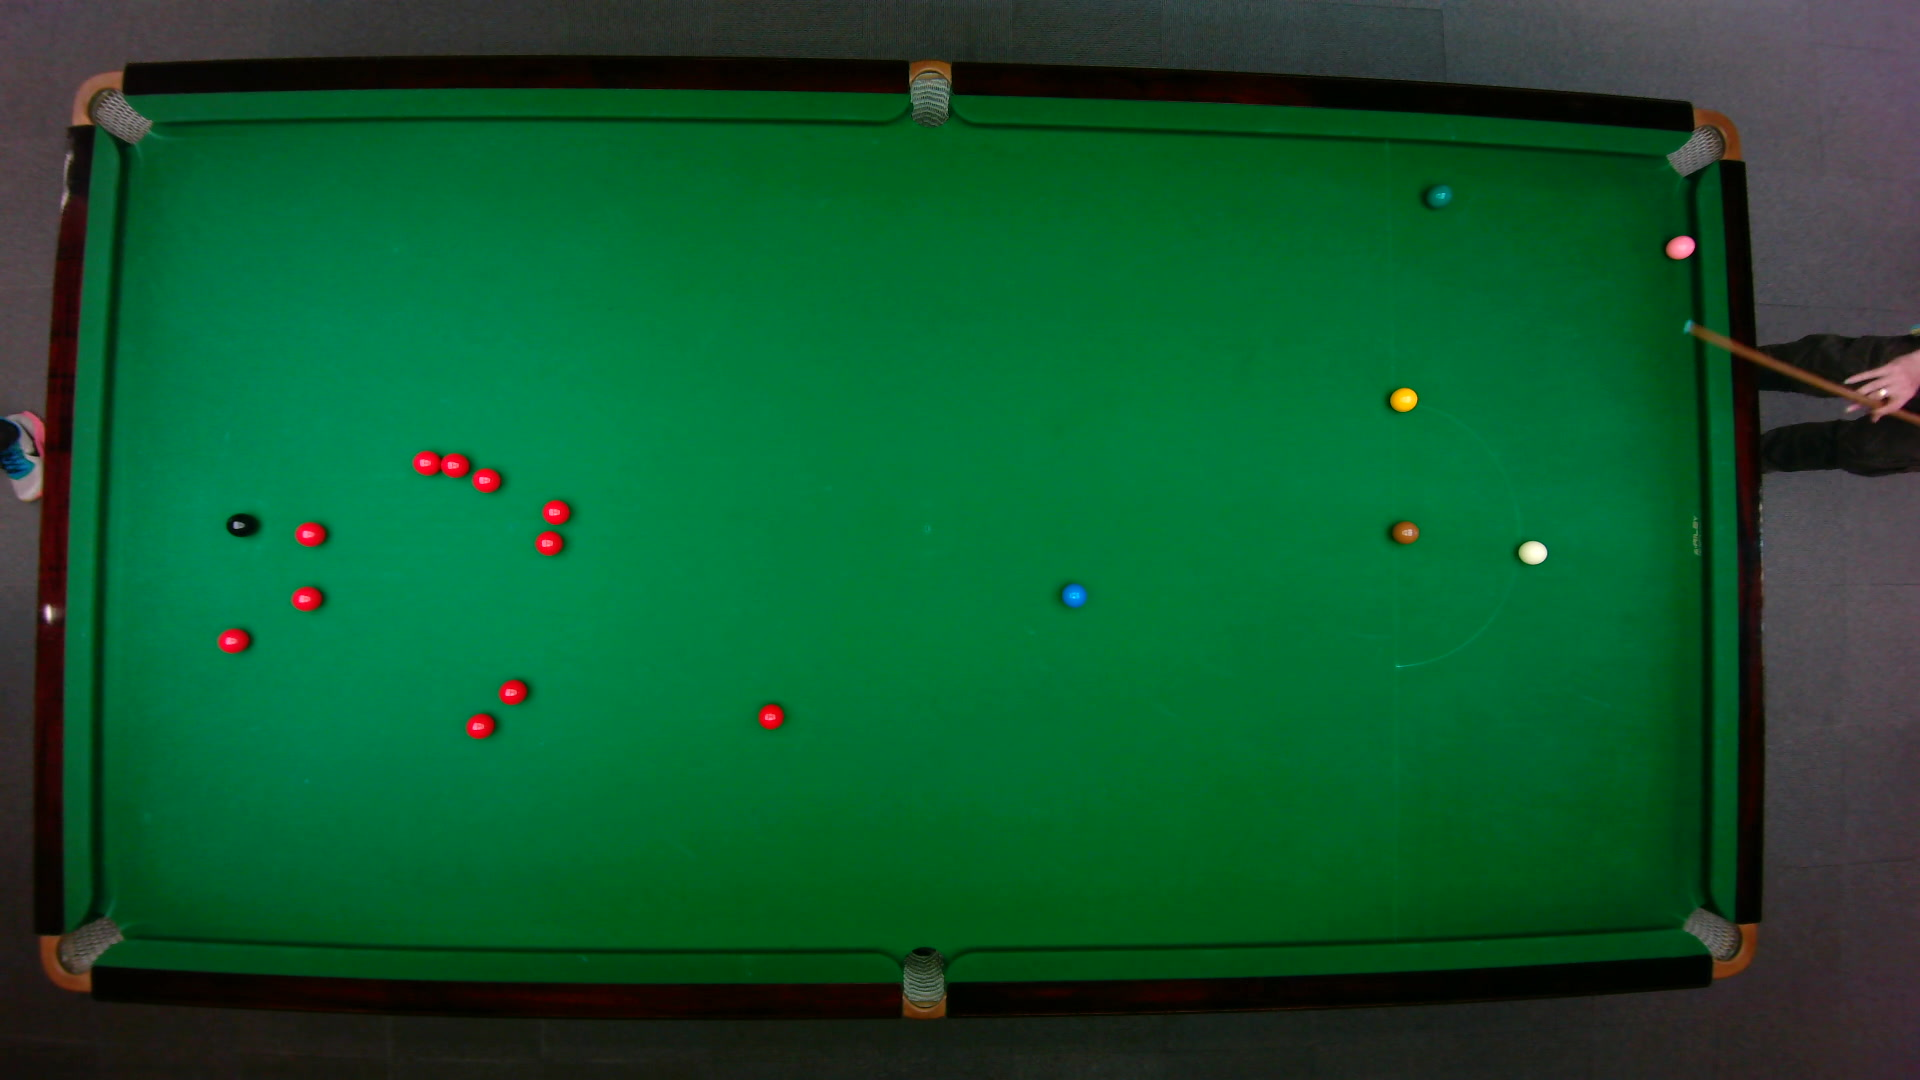bag: (37, 914, 125, 993), (69, 69, 152, 145), (1677, 905, 1756, 978), (1663, 107, 1741, 177), (901, 944, 944, 1021), (909, 57, 949, 128)
black: (223, 512, 256, 537)
blue: (1058, 582, 1087, 608)
brown: (1390, 520, 1419, 545)
cue: (1679, 320, 1920, 409)
green: (1423, 182, 1453, 208)
pink: (1663, 232, 1697, 260)
red: (289, 583, 324, 611), (215, 625, 249, 653), (293, 520, 326, 547), (463, 711, 496, 738), (497, 676, 527, 705), (533, 527, 563, 556), (756, 702, 785, 731), (439, 450, 469, 477), (469, 465, 501, 492), (410, 448, 440, 475), (541, 498, 570, 525)
white: (1515, 538, 1548, 564)
yellow: (1389, 385, 1419, 411)
zone: (1390, 400, 1519, 667)
